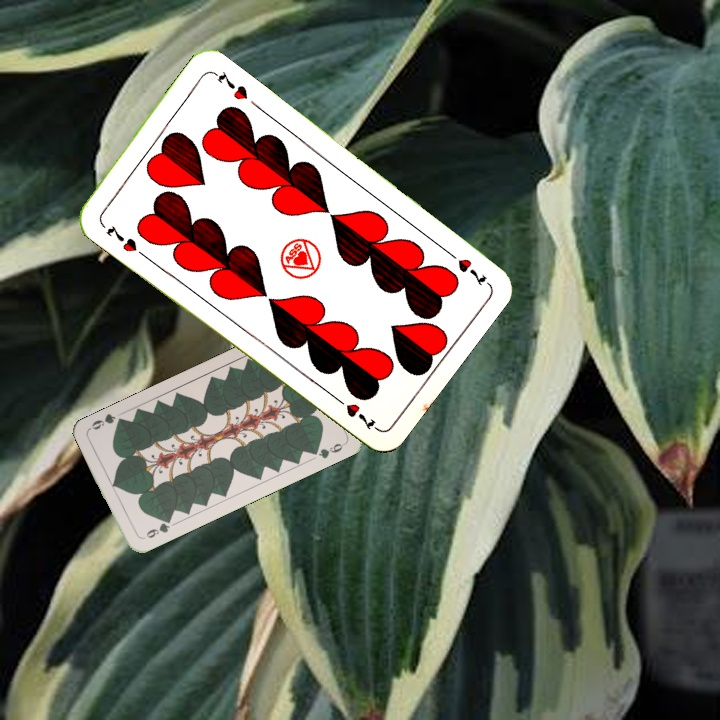G9: (138, 514, 174, 542)
H7: (441, 245, 489, 289), (102, 221, 140, 255)
